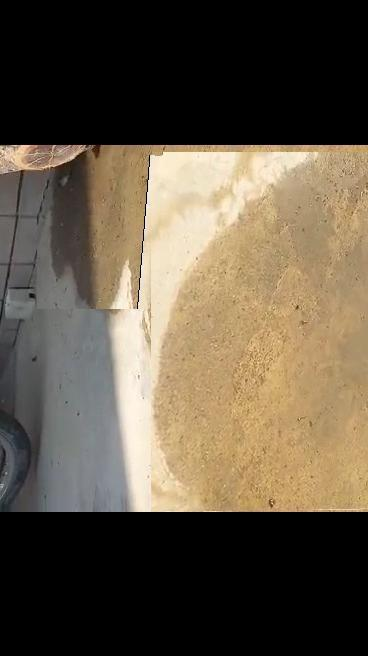water accumulation: (151, 151, 368, 512), (38, 144, 151, 308)
